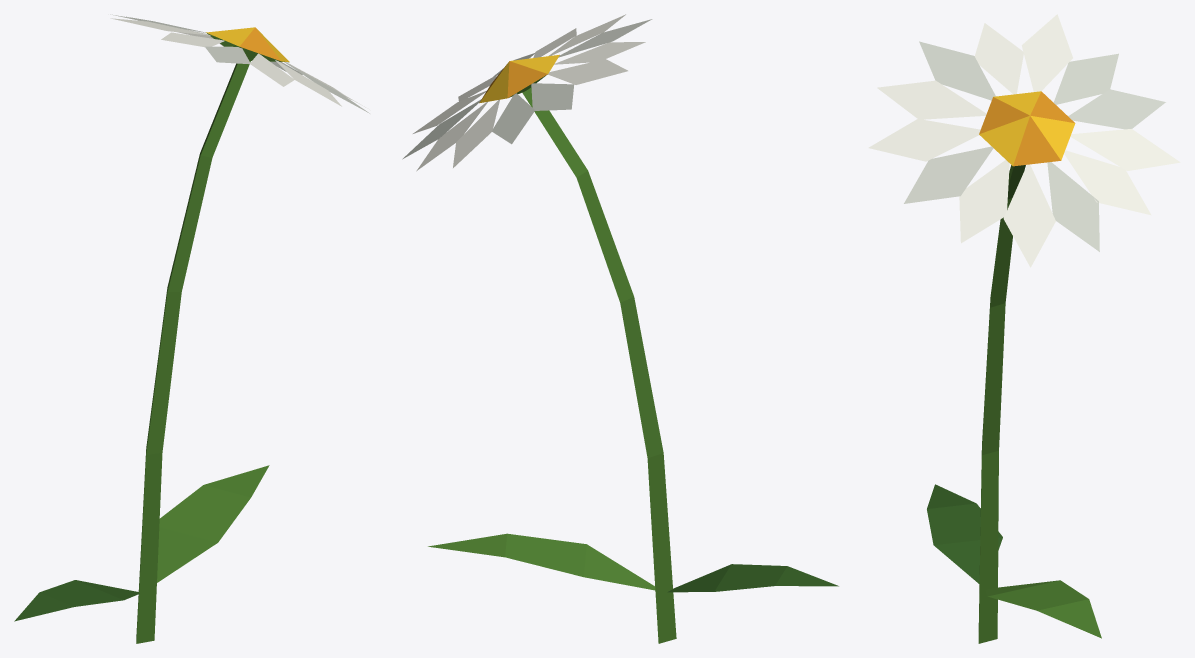
The model's file is daisy3.fbx.
3 renders of one model, left to right at view 1: azimuth 30°, elevation 25°; view 2: azimuth 150°, elevation 25°; view 3: azimuth 270°, elevation 25°, orthographic. The views are drawn at different scales.
Visible parts, largest first — view 1: daisy3; view 2: daisy3; view 3: daisy3.
Boxes of the visible parts, x1=… form: daisy3: x1=14, y1=14, x2=369, y2=643; daisy3: x1=402, y1=14, x2=838, y2=643; daisy3: x1=868, y1=14, x2=1180, y2=643.
Size of the model in its own units: 25.87 by 38.38 by 17.38.
